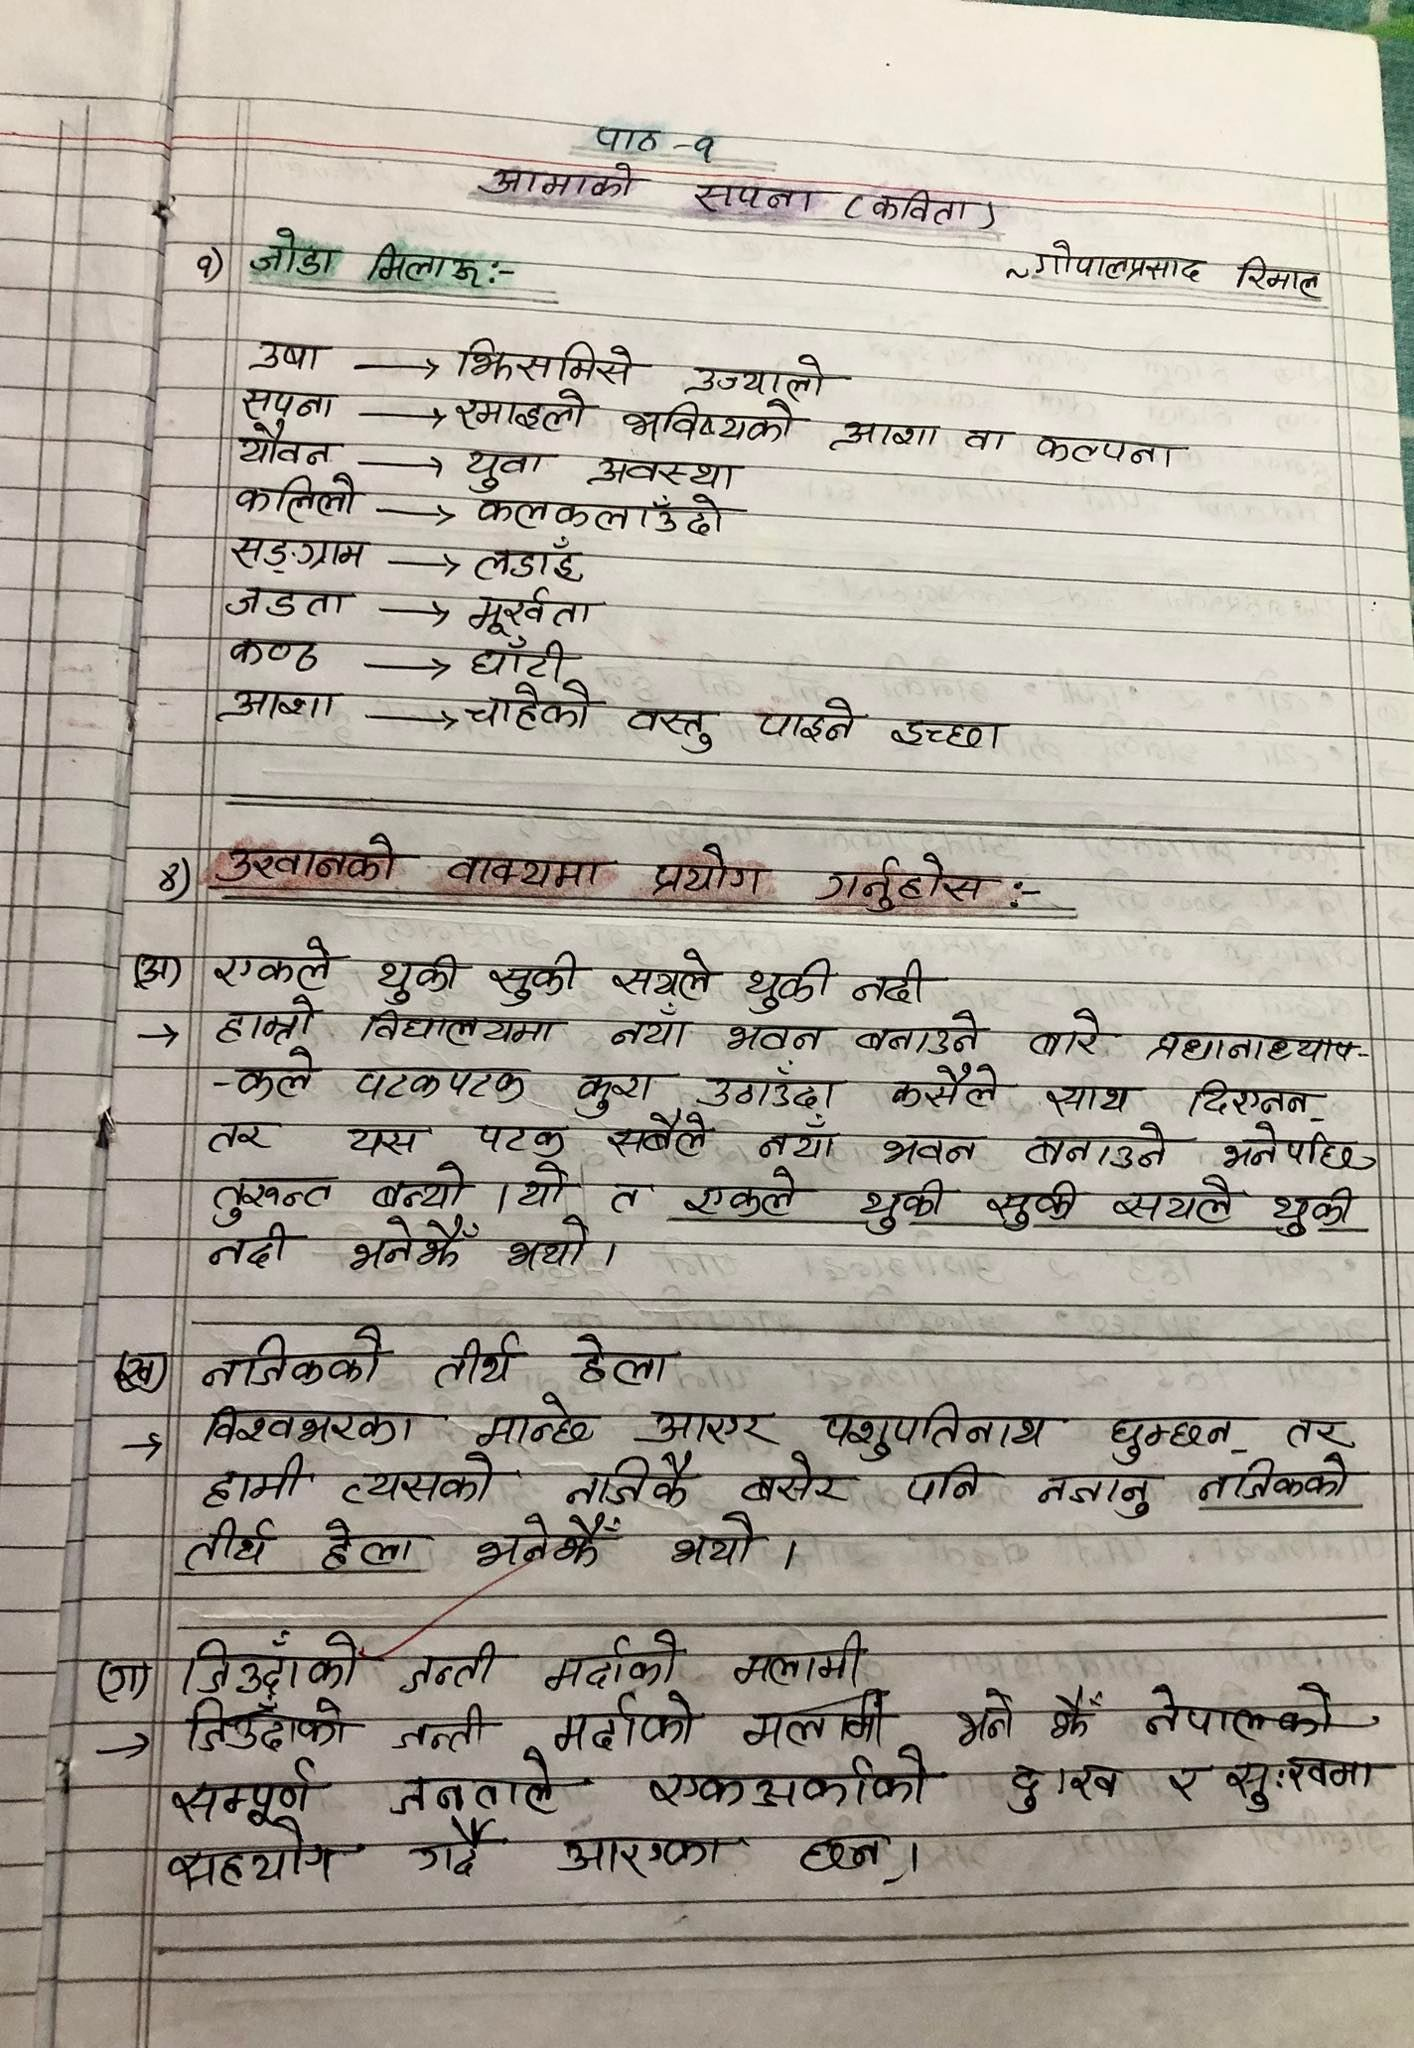text: (646, 1748, 933, 1815), (823, 1399, 1052, 1460), (1142, 1678, 1341, 1745), (386, 1748, 562, 1821), (815, 848, 999, 917), (468, 492, 730, 538), (199, 1326, 389, 1390), (166, 1830, 342, 1895), (168, 1759, 319, 1830), (182, 1632, 359, 1693), (1218, 1749, 1381, 1815), (201, 1401, 418, 1447), (182, 1693, 353, 1752), (541, 1626, 684, 1695), (216, 833, 401, 885), (1145, 1026, 1358, 1071), (740, 1689, 890, 1752), (1223, 1117, 1381, 1175), (338, 1452, 499, 1508), (474, 1506, 624, 1567), (621, 394, 796, 445), (362, 1005, 562, 1050), (457, 336, 636, 386), (551, 1696, 700, 1755), (1031, 238, 1207, 288), (733, 1629, 870, 1693), (352, 1061, 530, 1110), (555, 1830, 733, 1878), (563, 1447, 695, 1510), (1196, 1452, 1356, 1503), (1024, 1116, 1168, 1170), (348, 1215, 481, 1275), (697, 1058, 837, 1113), (473, 1390, 600, 1449), (1108, 1410, 1244, 1464), (212, 934, 333, 994), (652, 840, 770, 903), (1184, 1074, 1324, 1125), (1030, 1466, 1154, 1524), (464, 682, 597, 735), (686, 352, 832, 400), (852, 1007, 985, 1060), (681, 1163, 800, 1222), (1111, 1170, 1234, 1226), (453, 386, 590, 436), (736, 1449, 851, 1508), (448, 853, 614, 893), (1031, 430, 1179, 475), (233, 470, 359, 523), (572, 1332, 684, 1391), (1003, 1759, 1122, 1815), (199, 1452, 308, 1513), (212, 1173, 336, 1226), (464, 584, 594, 633), (226, 528, 364, 574), (610, 945, 716, 1004), (583, 454, 737, 495), (890, 1057, 1000, 1113), (404, 1818, 501, 1881), (635, 1404, 775, 1447), (482, 163, 638, 202), (485, 948, 582, 1010), (317, 1516, 422, 1573), (471, 534, 586, 585), (222, 577, 352, 622), (793, 1833, 902, 1886), (372, 1159, 474, 1215), (667, 1511, 764, 1570), (742, 956, 835, 1016), (985, 1178, 1086, 1234), (890, 713, 1010, 759), (604, 1110, 716, 1159), (859, 1173, 947, 1236), (426, 1332, 520, 1391), (754, 696, 859, 749), (370, 241, 478, 293), (215, 994, 316, 1049), (398, 1642, 499, 1696), (184, 1513, 274, 1573), (387, 1701, 492, 1752), (691, 177, 821, 218), (373, 949, 462, 1008), (1268, 1184, 1355, 1243), (1027, 1004, 1112, 1063), (628, 703, 716, 759), (232, 1047, 317, 1103), (205, 1223, 303, 1271), (219, 685, 341, 724), (952, 1684, 1017, 1755), (871, 188, 974, 233), (502, 1219, 590, 1271), (851, 956, 929, 1015), (874, 1128, 982, 1170), (247, 229, 338, 279), (236, 422, 336, 465), (608, 1001, 695, 1050), (1041, 1078, 1140, 1122), (754, 1114, 842, 1164), (571, 1068, 652, 1120), (468, 640, 569, 682), (229, 633, 324, 677), (462, 445, 548, 493), (238, 381, 336, 423), (1229, 255, 1325, 297), (723, 1018, 823, 1058), (826, 419, 941, 453), (905, 1460, 986, 1506), (471, 1120, 568, 1159), (1042, 1689, 1108, 1740), (246, 336, 325, 375), (341, 1122, 423, 1159), (205, 1117, 278, 1159), (515, 1159, 566, 1214), (1282, 1415, 1353, 1454), (593, 124, 663, 159), (115, 1351, 160, 1396), (1162, 1765, 1206, 1808), (104, 1660, 145, 1699), (605, 1178, 647, 1215), (137, 948, 171, 988), (963, 425, 1013, 451), (694, 132, 722, 167), (156, 856, 182, 892), (191, 251, 216, 282)
